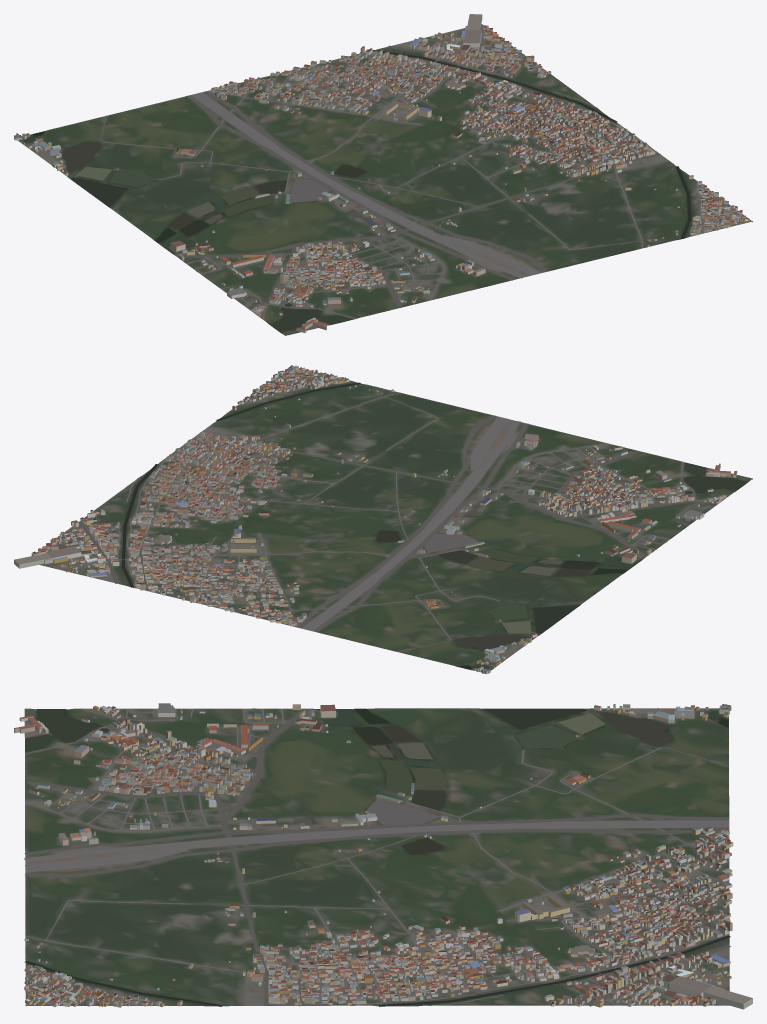
3 renders of one model, top to bottom at view 1: azimuth 30°, elevation 25°; view 2: azimuth 150°, elevation 25°; view 3: azimuth 270°, elevation 25°, orthographic. The views are drawn at different scales.
Parts seen in each view (by area): view 1: ground, buildings, roads, water; view 2: ground, buildings, roads, water; view 3: ground, buildings, roads, water.
Boxes of the visible parts, left/top/right/bottom form: ground: left=18, top=24, right=752, bottom=335; buildings: left=14, top=14, right=749, bottom=332; roads: left=31, top=25, right=752, bottom=319; water: left=23, top=50, right=691, bottom=332; ground: left=38, top=366, right=752, bottom=672; buildings: left=14, top=365, right=737, bottom=674; roads: left=50, top=369, right=731, bottom=661; water: left=121, top=382, right=747, bottom=669; ground: left=24, top=708, right=729, bottom=1006; buildings: left=14, top=703, right=752, bottom=1009; roads: left=24, top=708, right=730, bottom=1006; water: left=24, top=708, right=730, bottom=1006.
Size of the model in its own units: 1424 by 26.84 by 1471.
